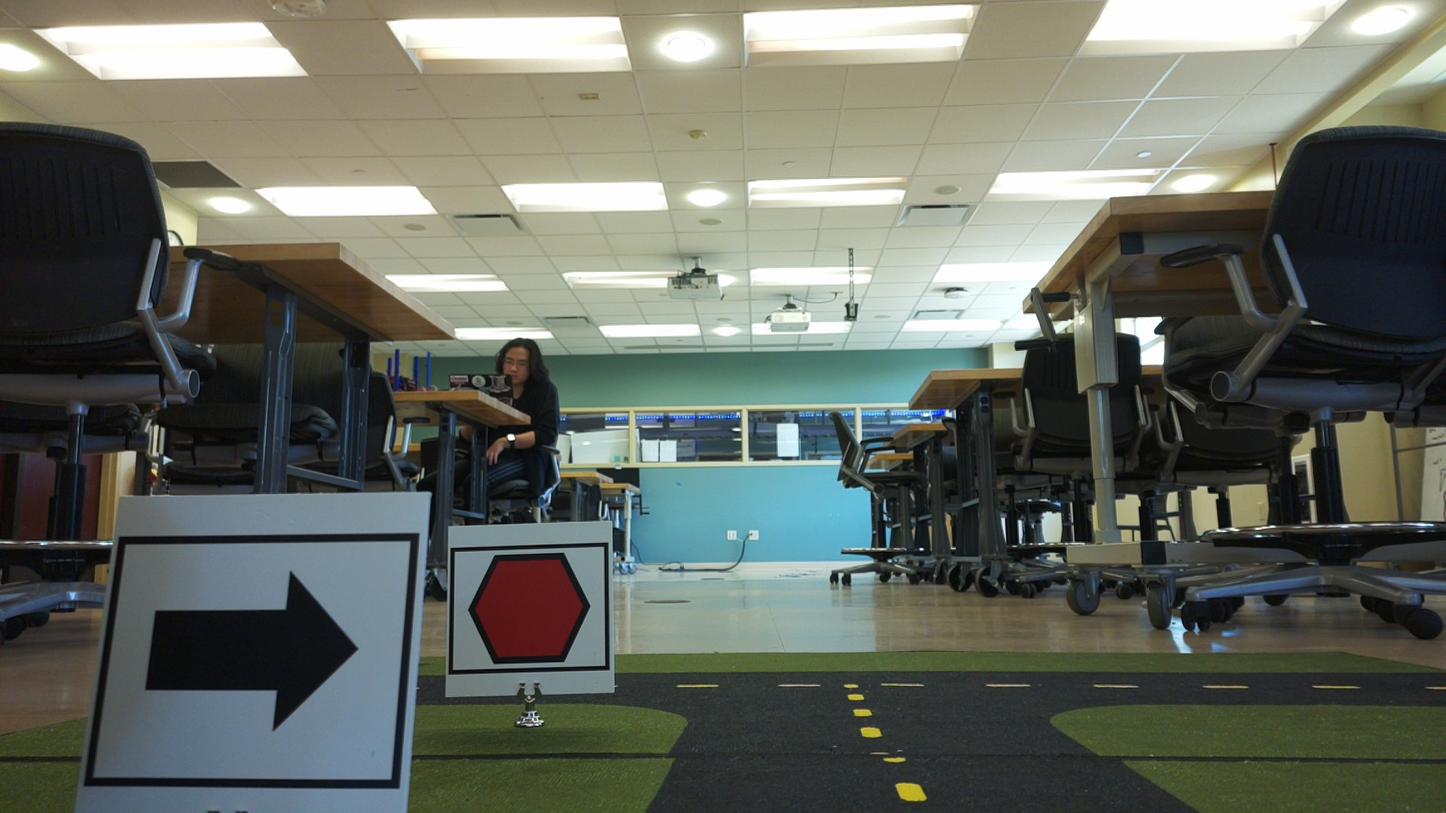stop: (453, 545, 612, 673)
turnright: (118, 541, 388, 783)
yellowline: (847, 690, 926, 803)
